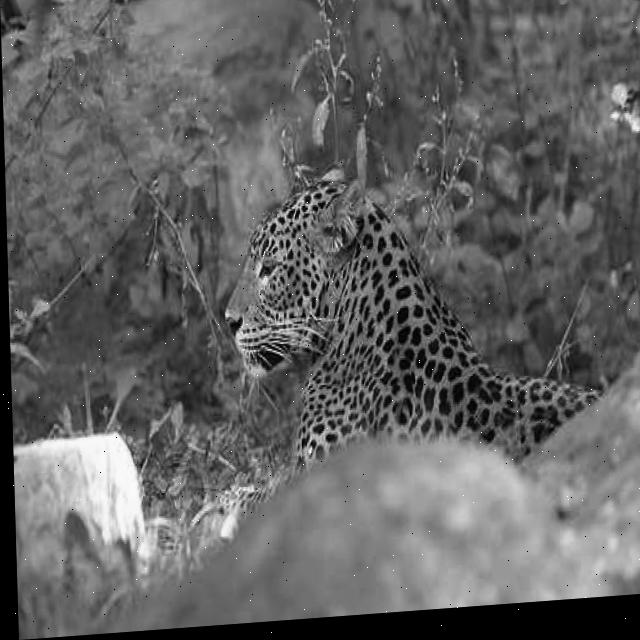Leopard: (225, 140, 481, 488)
